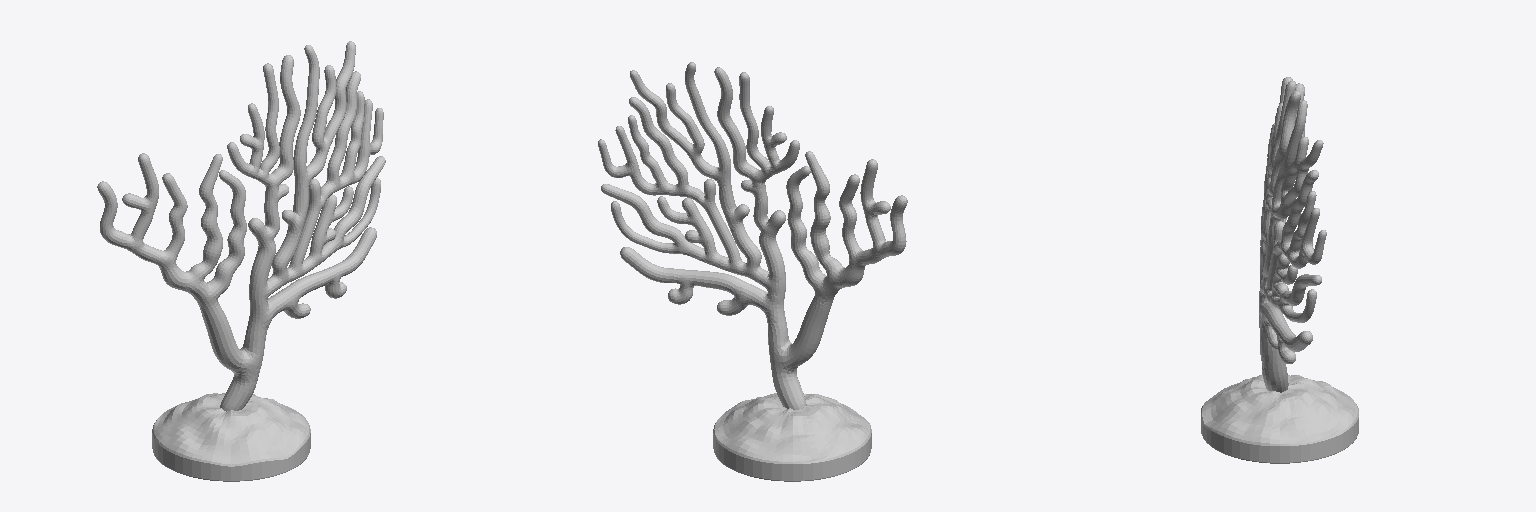
Rendered from coral.obj.
3 renders of one model, left to right at view 1: azimuth 30°, elevation 25°; view 2: azimuth 150°, elevation 25°; view 3: azimuth 270°, elevation 25°, orthographic.
Visible parts, largest first — view 1: 21487_Gorgonian_Soft_Coral_v1; view 2: 21487_Gorgonian_Soft_Coral_v1; view 3: 21487_Gorgonian_Soft_Coral_v1.
Part boxes in pixels (bbox=[...]): 21487_Gorgonian_Soft_Coral_v1: bbox=[97, 41, 385, 481]; 21487_Gorgonian_Soft_Coral_v1: bbox=[598, 62, 907, 481]; 21487_Gorgonian_Soft_Coral_v1: bbox=[1201, 77, 1358, 463].
Size of the model in its own units: 0.8239 by 0.9903 by 0.3813.